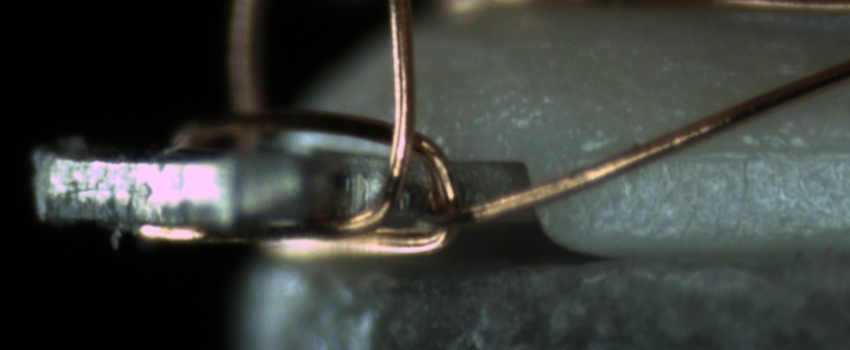DL: (610, 118, 846, 184)
TE: (185, 96, 488, 235)
